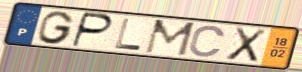C: (187, 24, 228, 59)
G: (36, 10, 76, 45)
L: (113, 17, 144, 52)
M: (142, 18, 197, 58)
P: (69, 11, 116, 49)
X: (224, 26, 269, 64)
